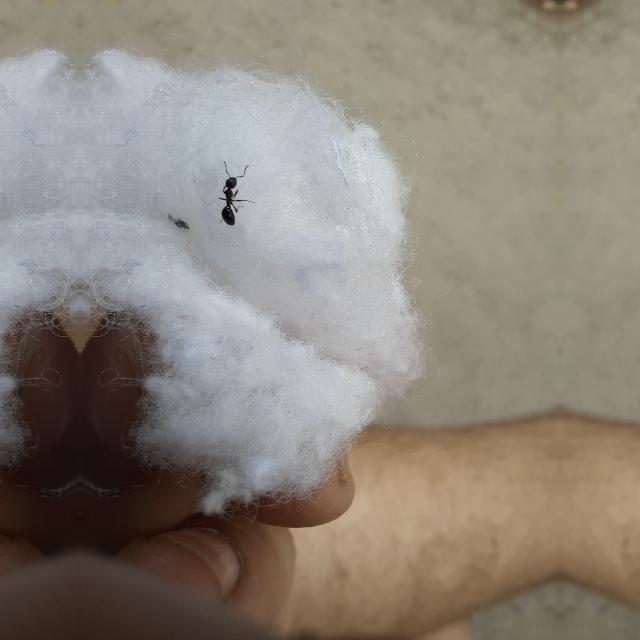Dolichoderus: (218, 164, 246, 228)
